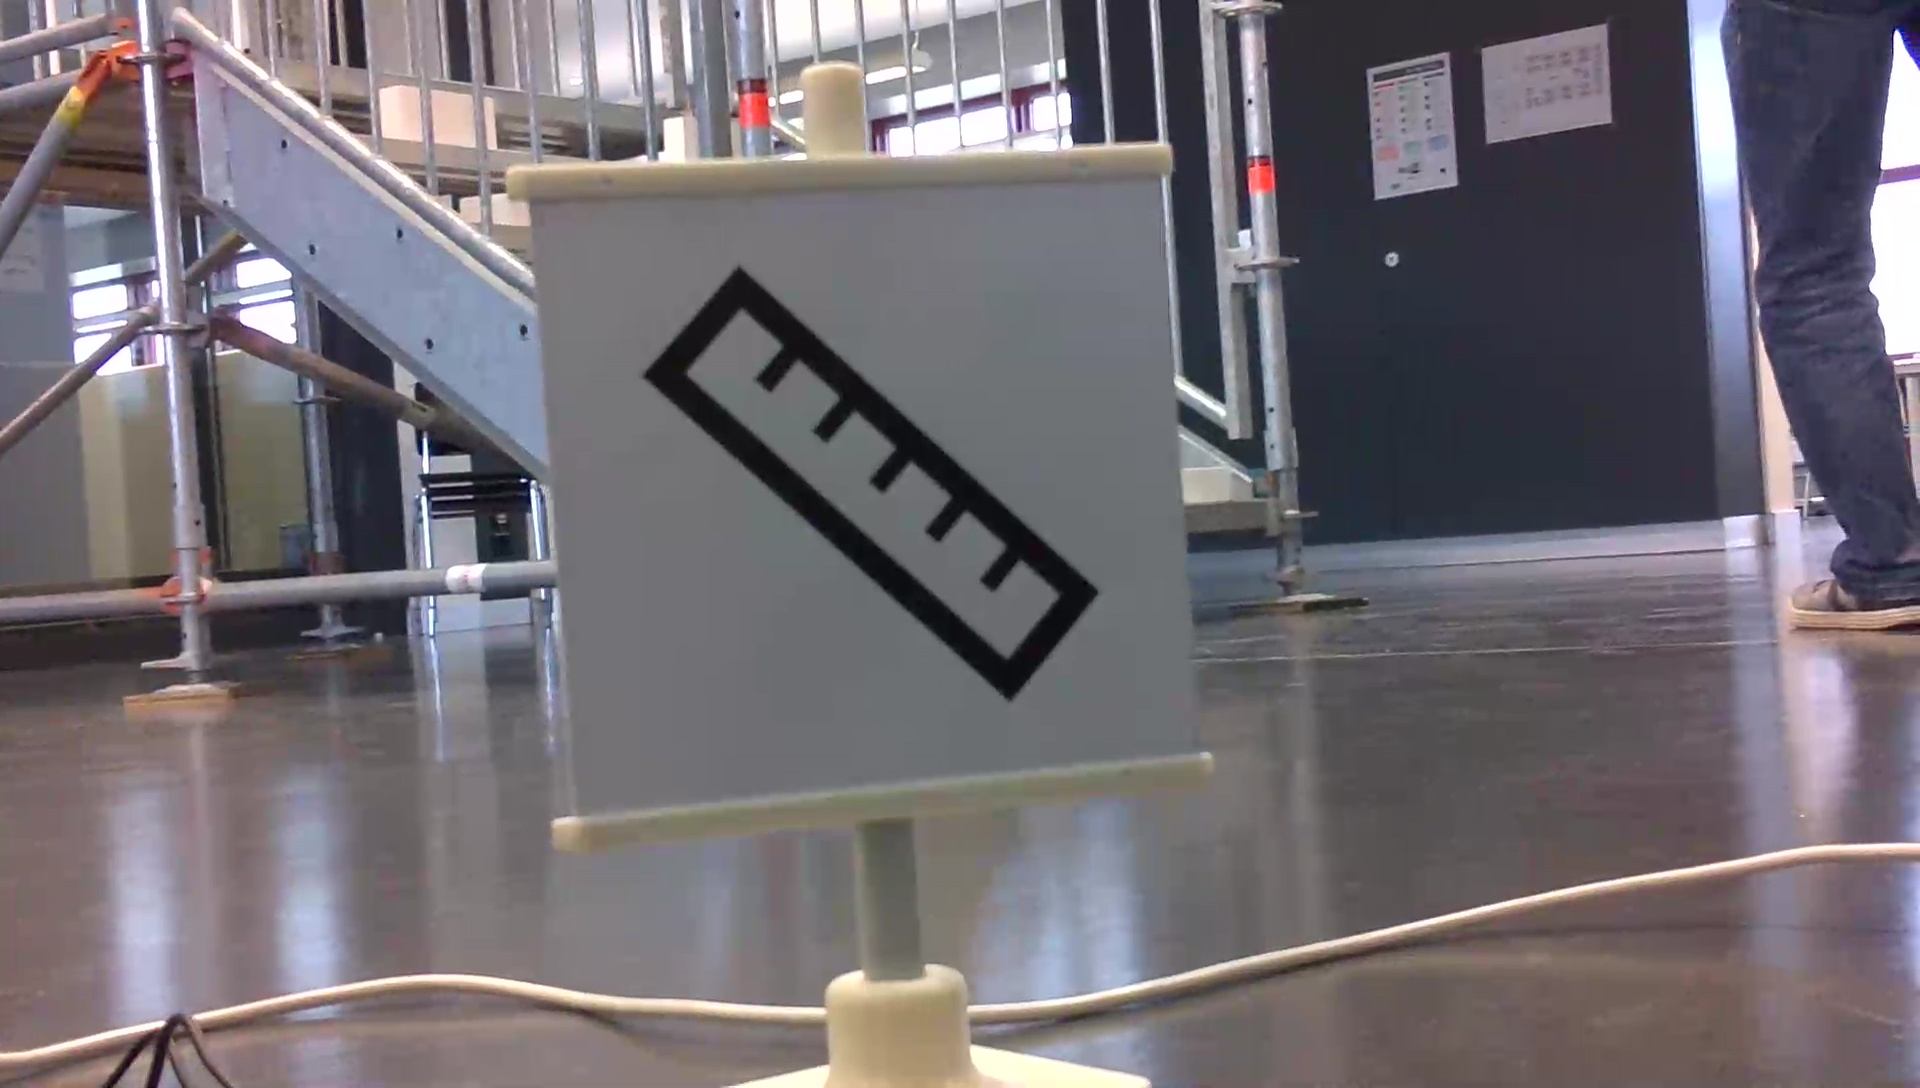ruler: (632, 253, 1109, 712)
